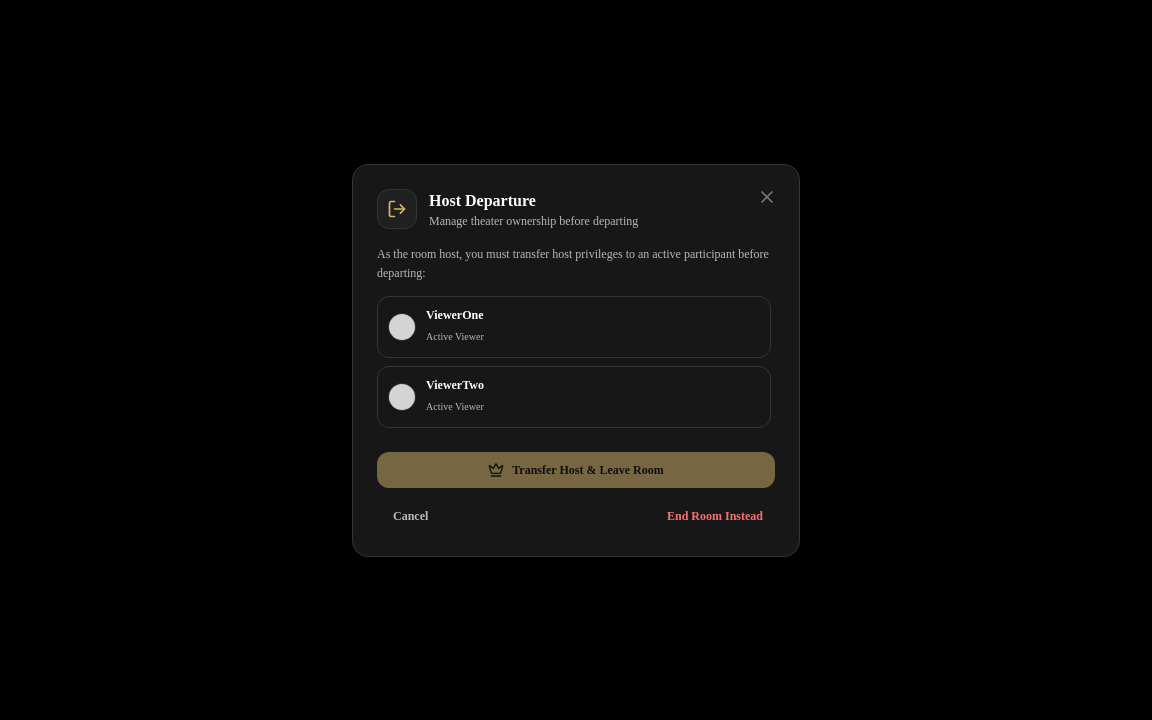
Scenario: LeaveRoomModal & EndRoomModal Component Tests › LeaveRoomModal — Host Departure & Transfer › requires host to select an active successor before leaving
Later steps or results of the test are not shown.
Expected: the heading "Host Departure" is shown, [429,192,536,208]
Expected: the text "ViewerTwo" is shown, [426,376,484,392]
Note: Select ViewerOne
Click the text "ViewerOne" at (455, 314), box [426,306,484,322]
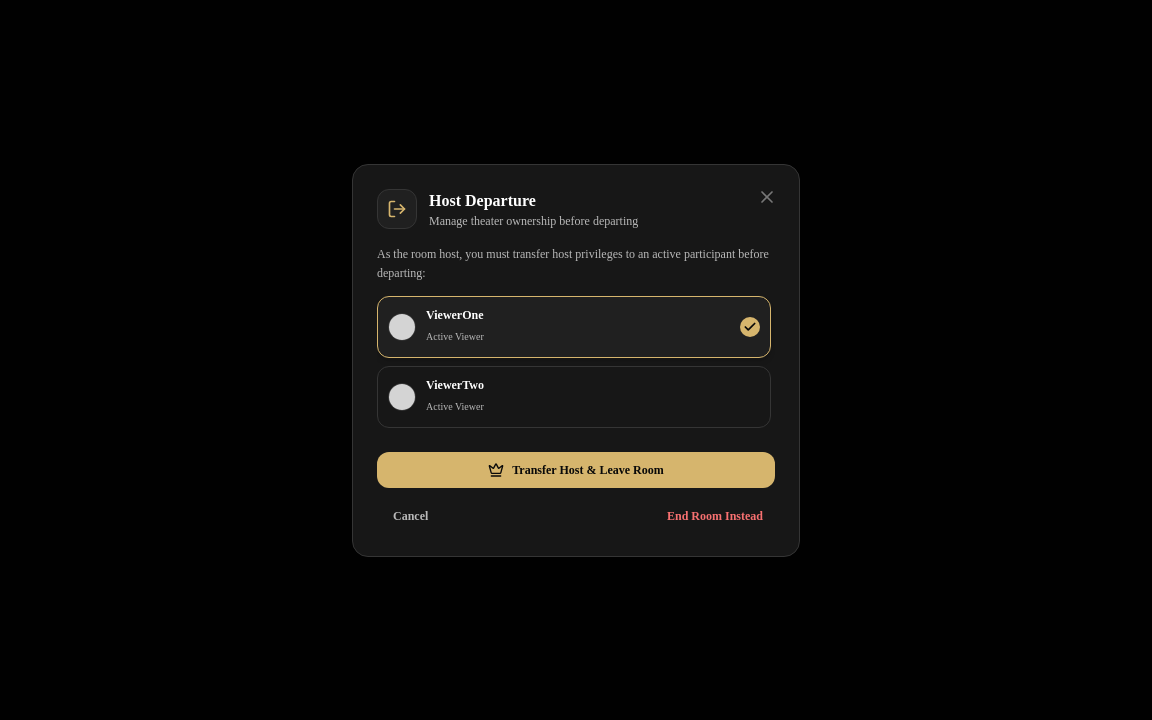
Now the button "Transfer Host & Leave Room" is enabled, box [377,452,775,488]
